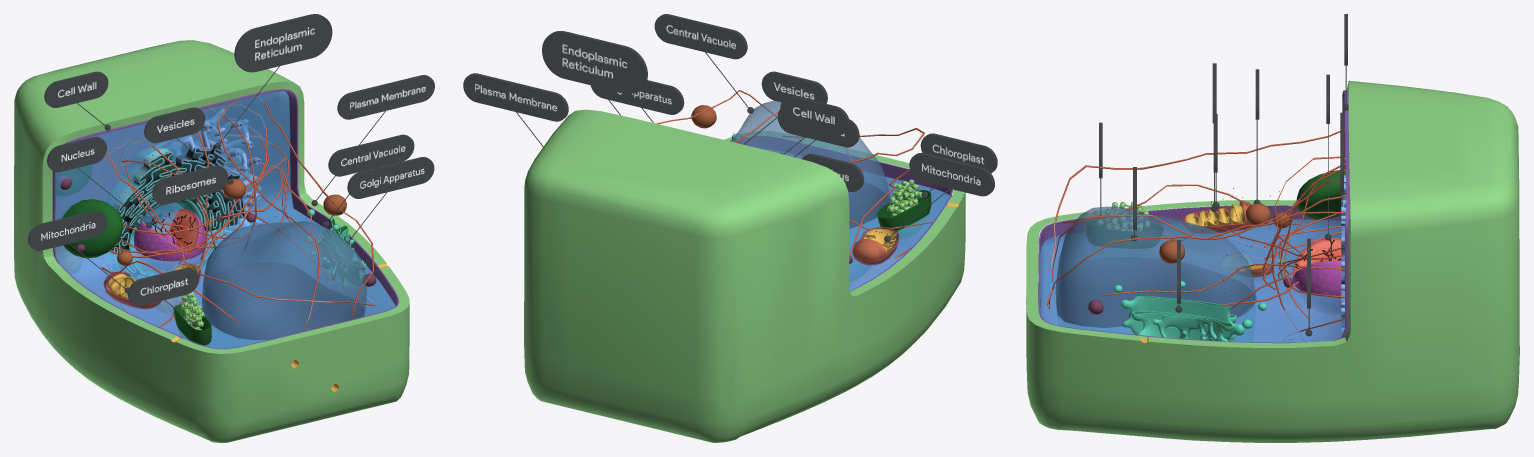
Rendered from plantcellnew.glb.
The picture shows the model from 3 angles, left to right: view 1: azimuth 30°, elevation 25°; view 2: azimuth 150°, elevation 25°; view 3: azimuth 270°, elevation 25°; orthographic projection. The views are drawn at different scales.
Parts seen in each view (by area): view 1: opaque, transparent, Labels; view 2: opaque, Labels, transparent; view 3: opaque, transparent, Labels.
Boxes of the visible parts, x1=… form: opaque: x1=14, y1=40, x2=409, y2=442; transparent: x1=55, y1=91, x2=395, y2=385; Labels: x1=28, y1=14, x2=434, y2=327; opaque: x1=524, y1=90, x2=965, y2=442; Labels: x1=463, y1=14, x2=997, y2=242; transparent: x1=730, y1=100, x2=950, y2=291; opaque: x1=1026, y1=80, x2=1519, y2=442; transparent: x1=1038, y1=200, x2=1344, y2=342; Labels: x1=1098, y1=14, x2=1348, y2=336.
Bounding box in the file's own units: 72.22 × 43.22 × 61.96.
3 materials, 3 textured.
